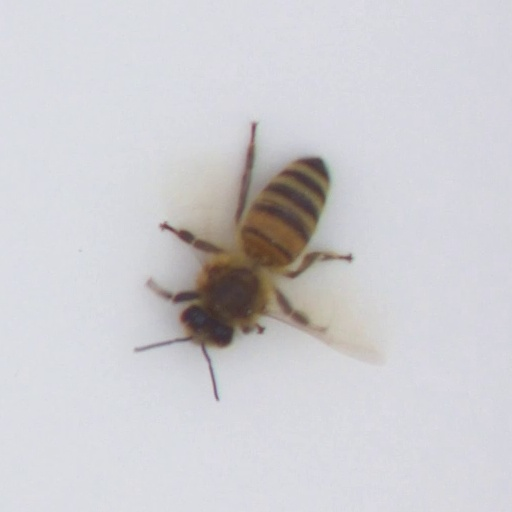Bee: (176, 160, 332, 349)
Thorax: (205, 266, 267, 317)
